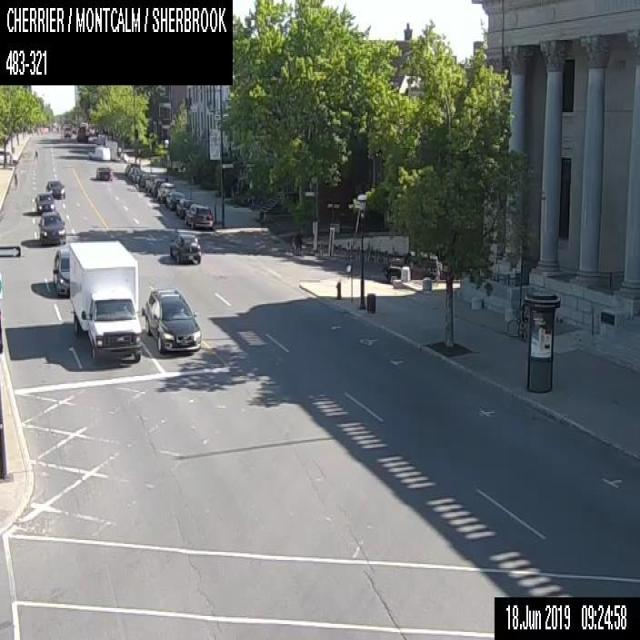cyclist: (13, 172, 17, 190)
pedestrian: (34, 149, 38, 159)
vehicle: (68, 239, 144, 364), (144, 286, 201, 354), (383, 250, 442, 282), (169, 230, 201, 262), (51, 247, 70, 297), (38, 211, 65, 245), (184, 203, 213, 229), (34, 191, 54, 212), (45, 179, 65, 198), (156, 181, 174, 201), (88, 143, 109, 160), (166, 191, 184, 209), (176, 197, 192, 217), (150, 177, 166, 195), (0, 148, 16, 164), (144, 173, 158, 191), (94, 165, 111, 179), (138, 171, 150, 186), (76, 126, 87, 141), (63, 126, 72, 138)
